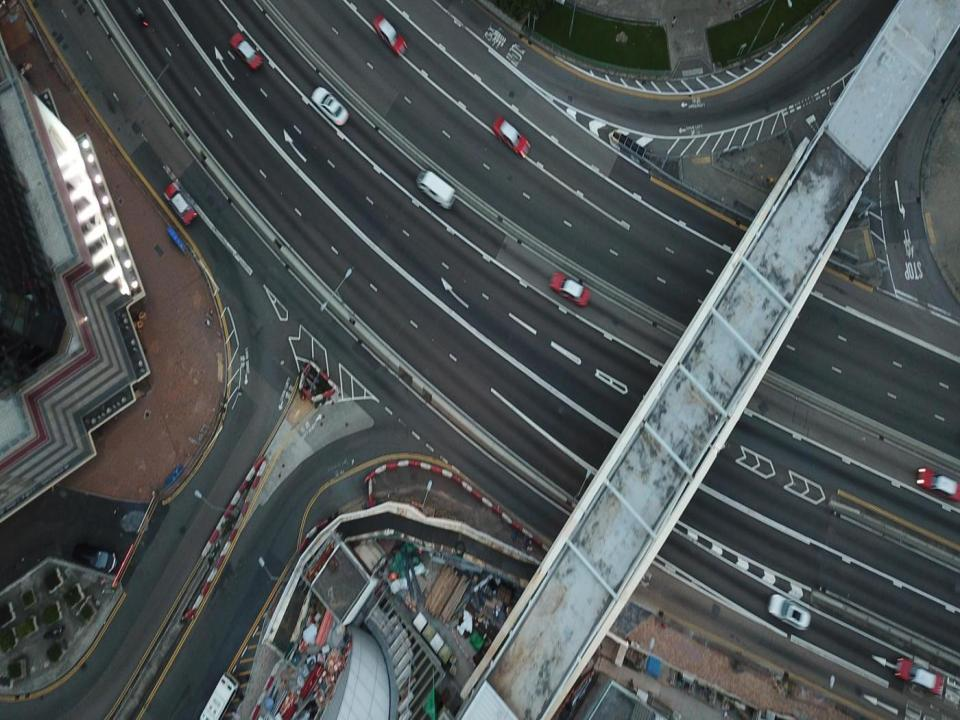car: (915, 463, 960, 507), (895, 656, 943, 695), (767, 593, 812, 630), (493, 116, 532, 158), (162, 181, 198, 225), (372, 12, 407, 55), (310, 87, 349, 124), (550, 270, 591, 305), (229, 29, 263, 67)
van: (64, 540, 118, 571), (415, 168, 456, 208)
